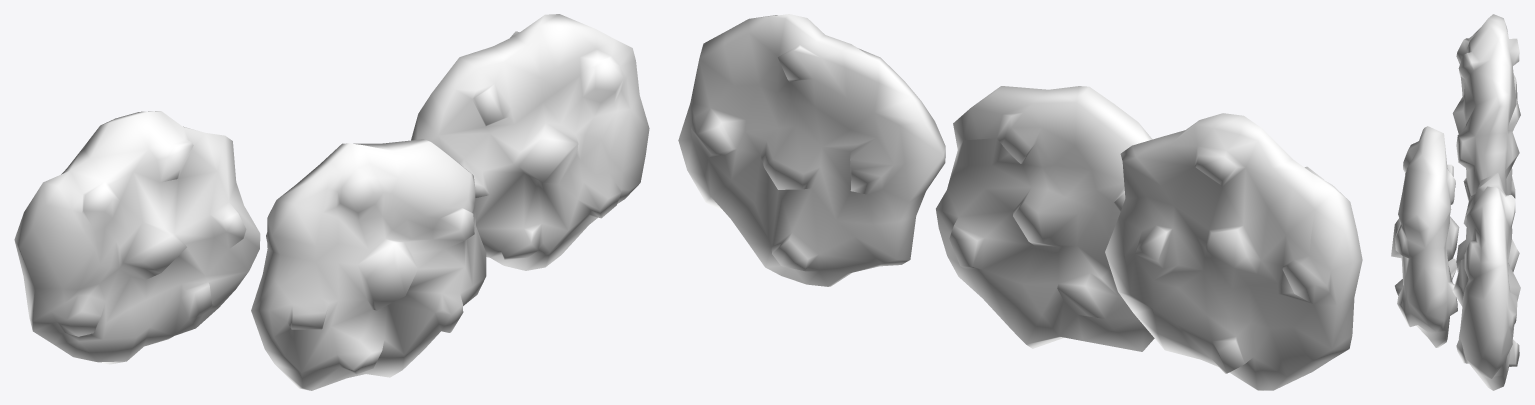
File: cookie.glb
3 views of the same model, side by side, from view 1: azimuth 30°, elevation 25°; view 2: azimuth 150°, elevation 25°; view 3: azimuth 270°, elevation 25° (orthographic). The views are drawn at different scales.
Visible parts, largest first — view 1: cookie_02, cookie_01, cookie_03; view 2: cookie_02, cookie_03, cookie_01; view 3: cookie_01, cookie_03, cookie_02.
Boxes of the visible parts, x1,y1,x2,y2 form: cookie_02: [14, 111, 260, 364]; cookie_01: [251, 139, 486, 390]; cookie_03: [411, 14, 649, 270]; cookie_02: [1105, 113, 1362, 390]; cookie_03: [678, 14, 945, 286]; cookie_01: [936, 86, 1154, 351]; cookie_01: [1391, 126, 1459, 347]; cookie_03: [1452, 173, 1520, 390]; cookie_02: [1452, 14, 1520, 201].
Bounding box in the file's own units: 1.25 × 0.5571 × 0.2737.
Materials: 3 (3 with a texture image).
